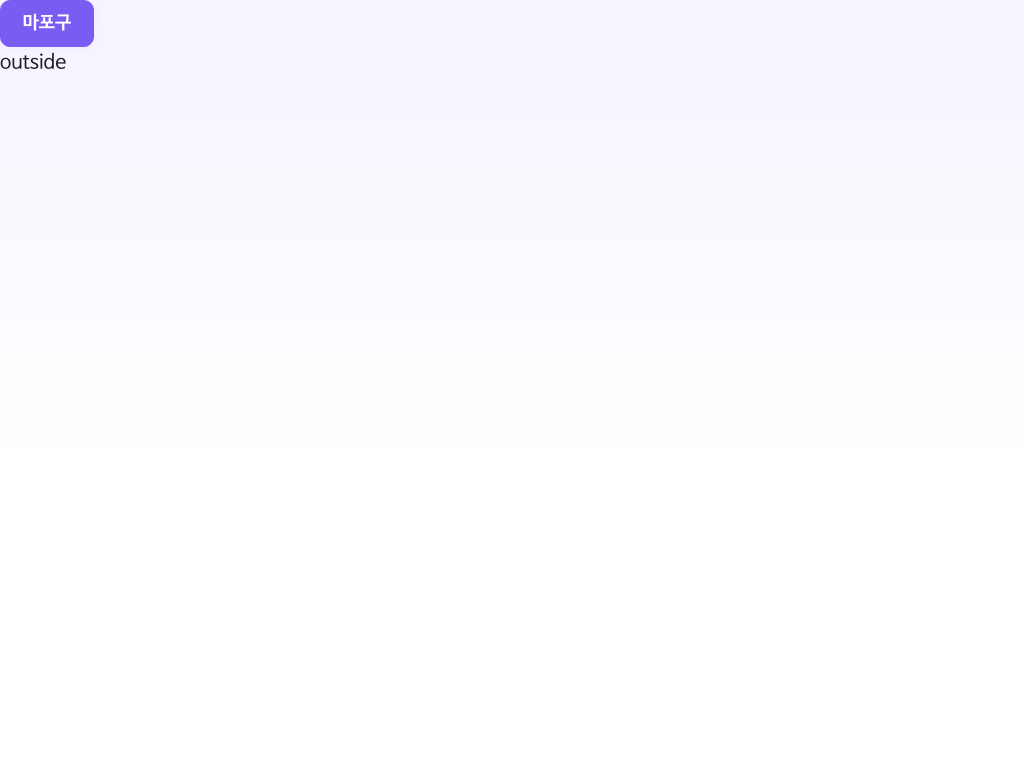
Test: the box (R1-4; one 거주 only since user 2026-10-20) › 「지우기」 takes the first 거주 away and the button asks for a region again; the workplaces stay
Click the button "마포구": [47, 23] box [0,0,94,47]
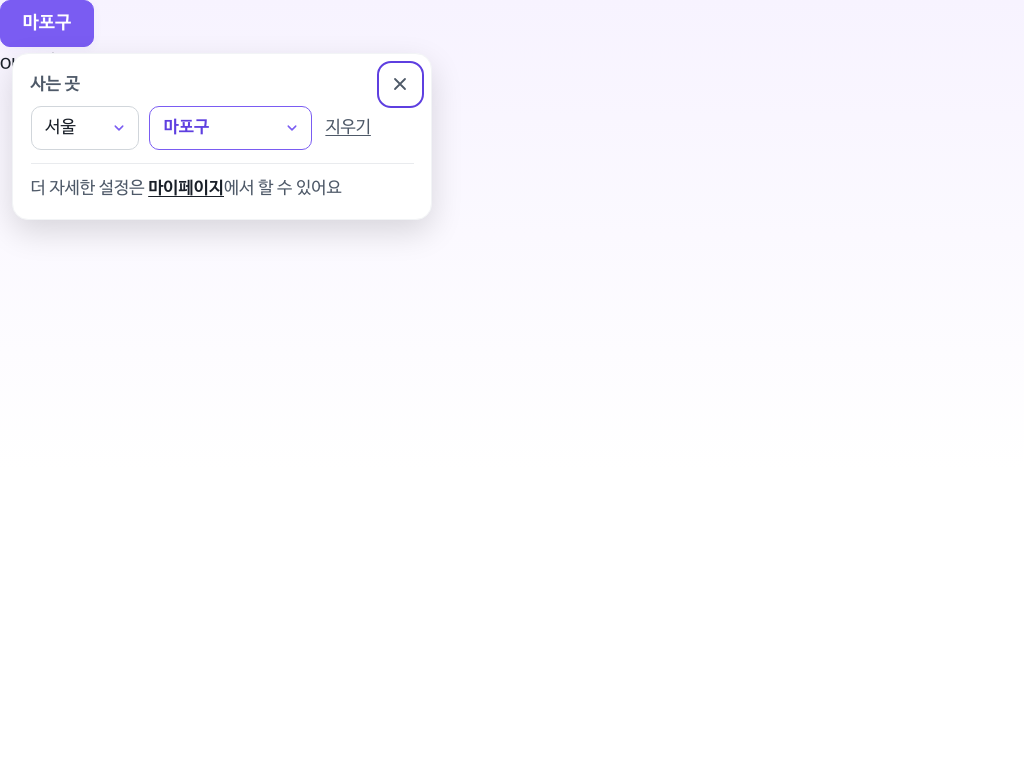
Click the button "지우기": [348, 128] box [322,114,375,141]
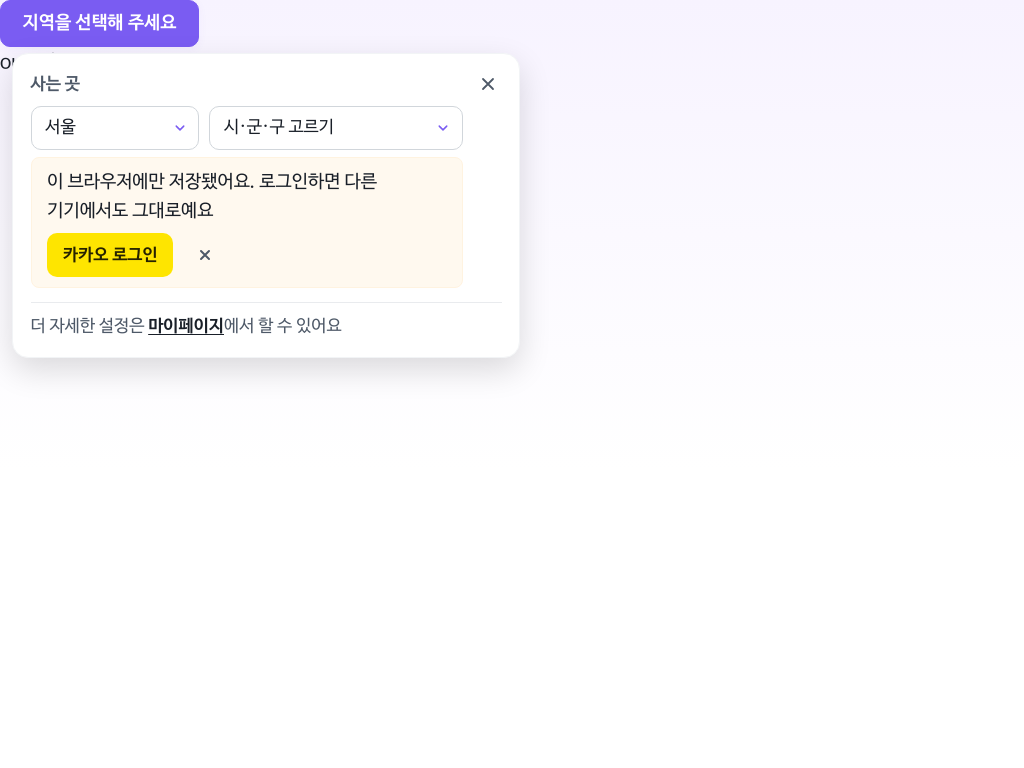
Expected: the button "지우기" is gone
Expected: the dropdown named "사는 곳 시군구" shows "시·군·구 고르기", [209,106,463,150]
